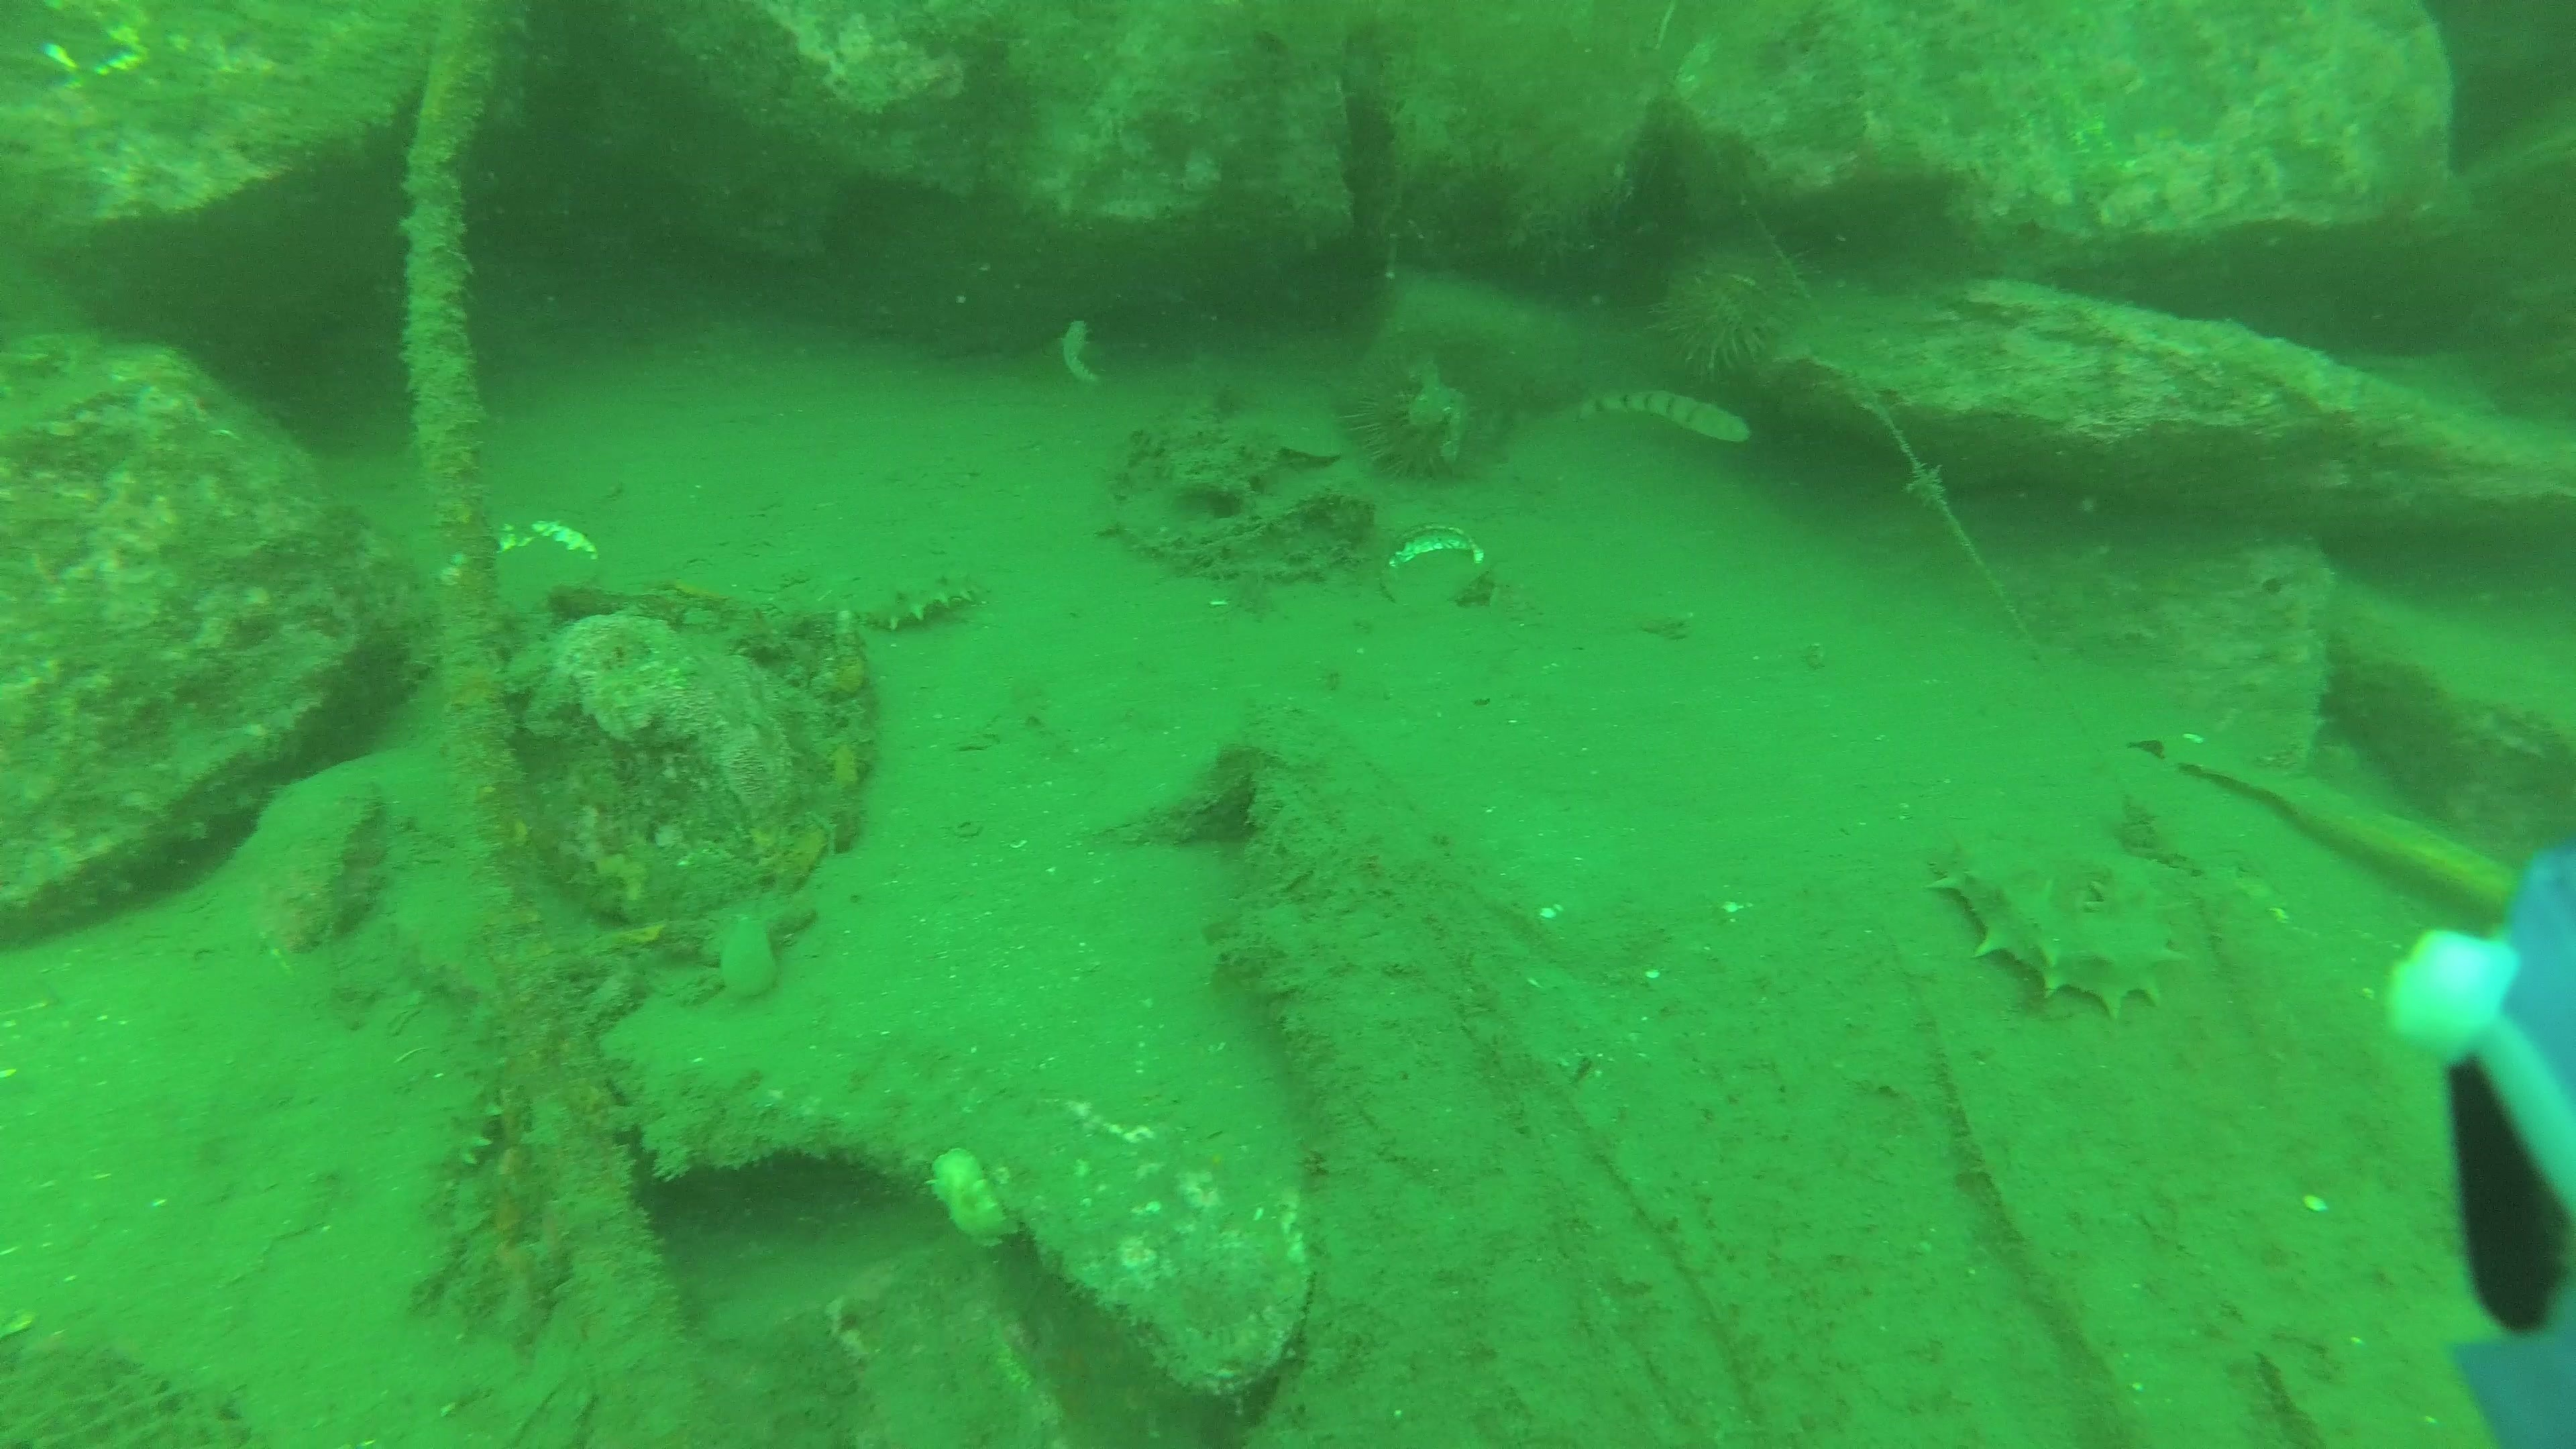echinus: (1327, 326, 1499, 488), (1647, 226, 1817, 382)
holothurian: (1916, 832, 2183, 1030), (418, 1005, 511, 1192), (856, 566, 984, 644)
